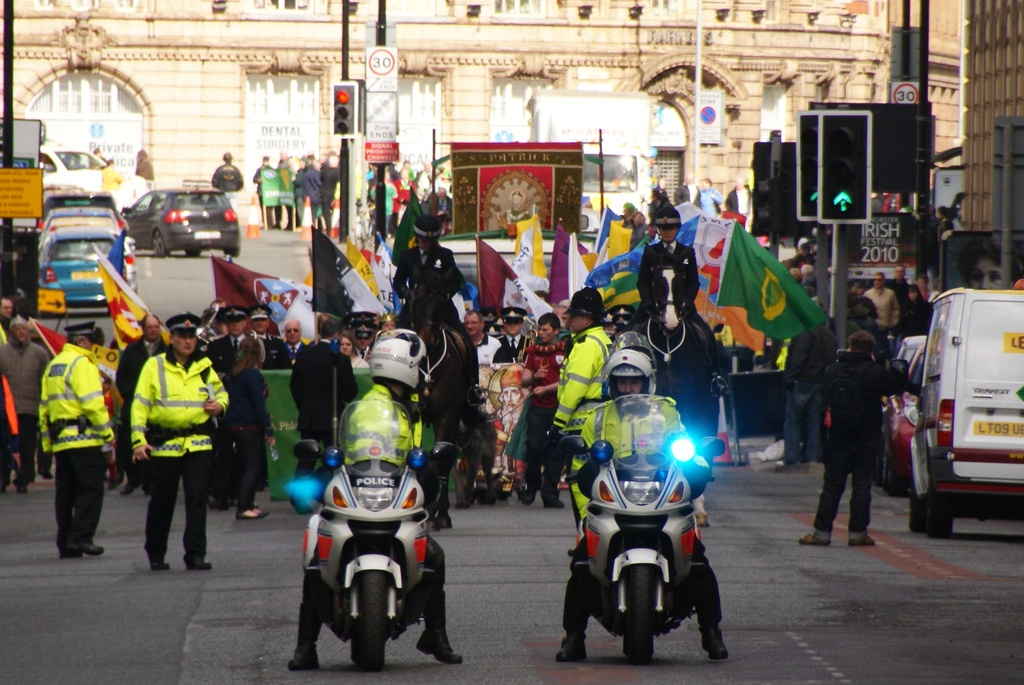Car: (36, 145, 241, 314), (880, 333, 1020, 502), (36, 209, 136, 313), (117, 186, 245, 252), (40, 142, 149, 205), (883, 340, 928, 489), (41, 198, 131, 228), (898, 332, 928, 361)
